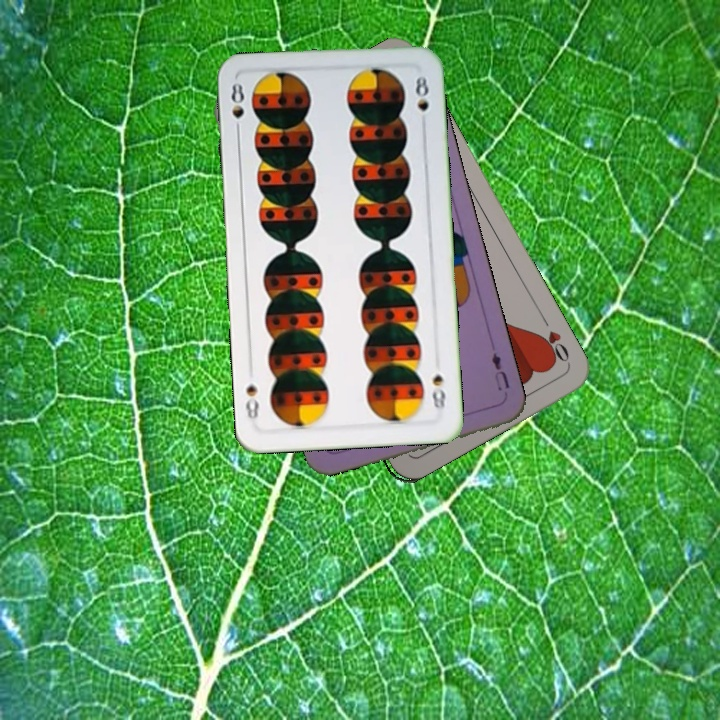EU: (487, 348, 512, 394)
HO: (534, 312, 573, 367)
S8: (227, 78, 249, 138), (428, 370, 448, 412)
